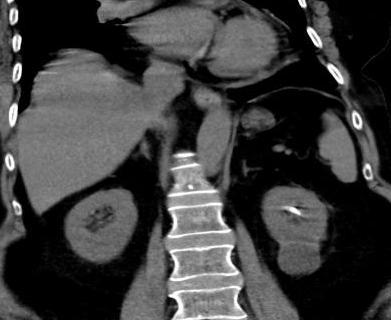Tas_Var: (289, 206, 301, 216)
